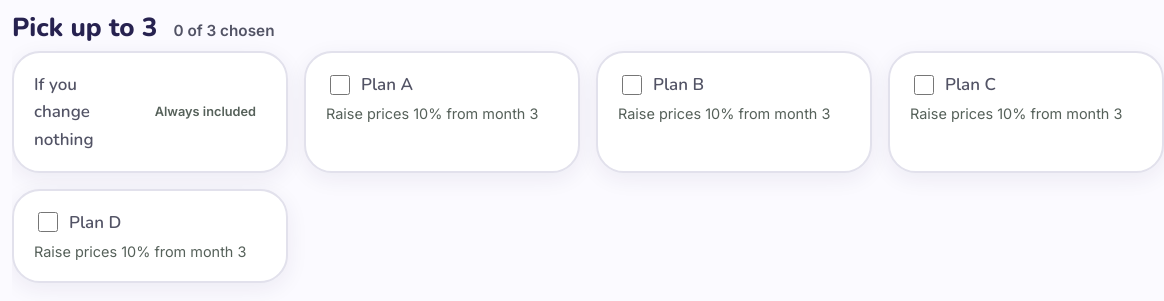
Test: ScenarioPicker › lets at most 3 be chosen: the other boxes are disabled and say why
Click the checkbox labelled "Plan A". click: (340, 85)
box: [330, 75, 350, 95]
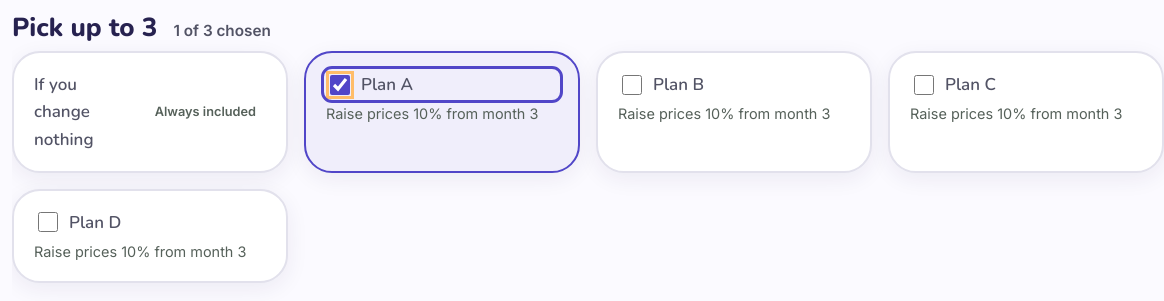
Click the checkbox labelled "Plan B". click: (632, 85)
box: [622, 75, 642, 95]
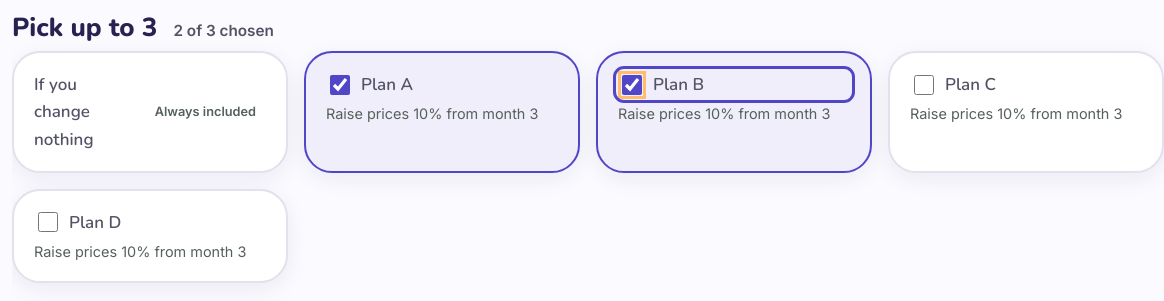
Click the checkbox labelled "Plan C". click: (924, 85)
box: [914, 75, 934, 95]
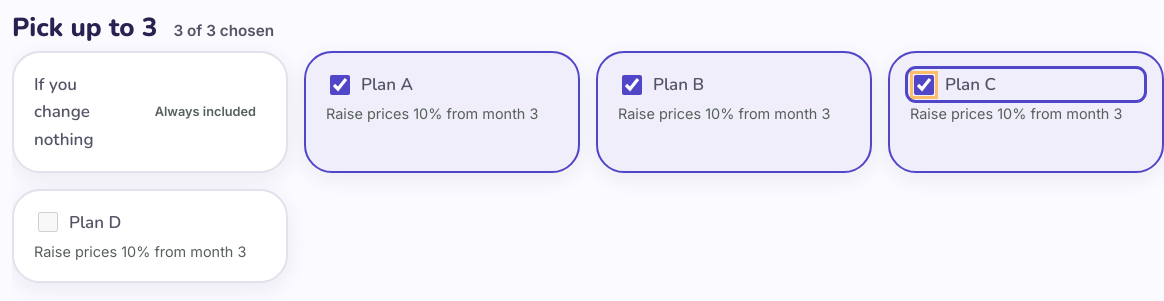
Result: the checkbox labelled "Plan D" is disabled at [38, 212, 58, 232]
Click the checkbox labelled "Plan A". click: (340, 85)
box: [330, 75, 350, 95]
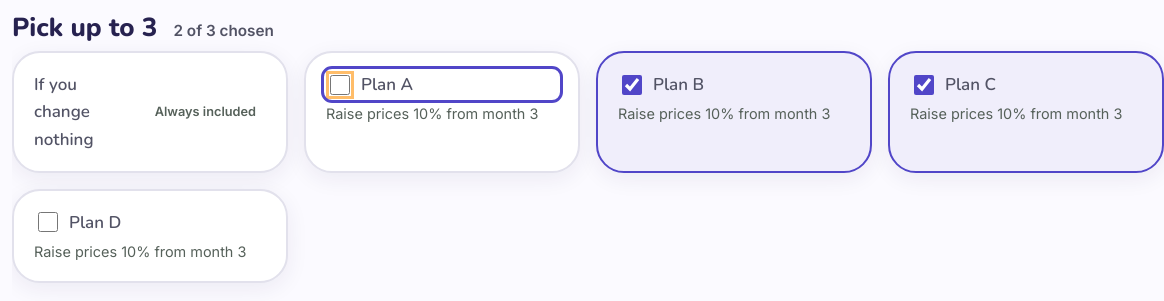
Result: the checkbox labelled "Plan D" is enabled at [38, 212, 58, 232]
